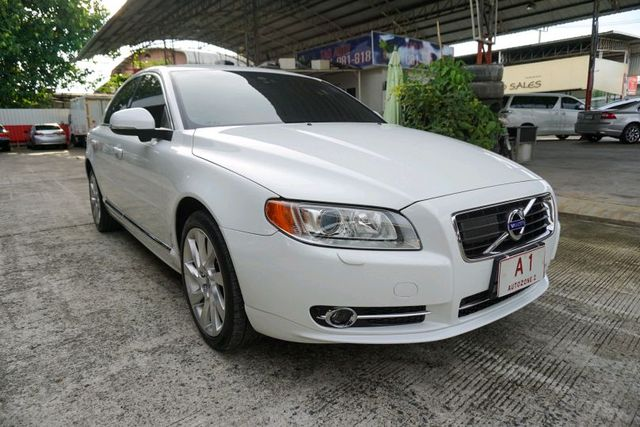sedan: (78, 60, 563, 355)
